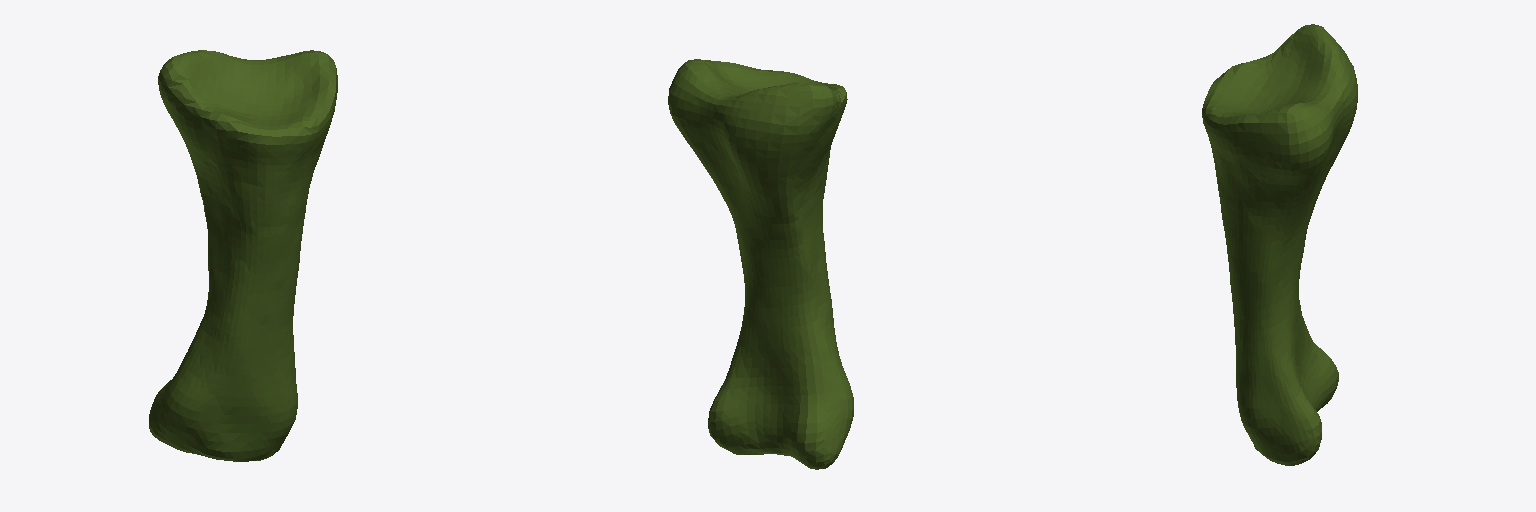
File: ProximalPhalanx_2.obj
The picture shows the model from 3 angles: view 1: azimuth 30°, elevation 25°; view 2: azimuth 150°, elevation 25°; view 3: azimuth 270°, elevation 25°; orthographic projection.
Parts seen in each view (by area): view 1: Object_0ProximalPhalanx_2; view 2: Object_0ProximalPhalanx_2; view 3: Object_0ProximalPhalanx_2.
Part boxes in pixels (left/top/right/bottom): Object_0ProximalPhalanx_2: left=149, top=50, right=337, bottom=461; Object_0ProximalPhalanx_2: left=668, top=59, right=853, bottom=469; Object_0ProximalPhalanx_2: left=1202, top=24, right=1357, bottom=465.
Bounding box in the file's own units: 15.87 × 34.91 × 12.34.